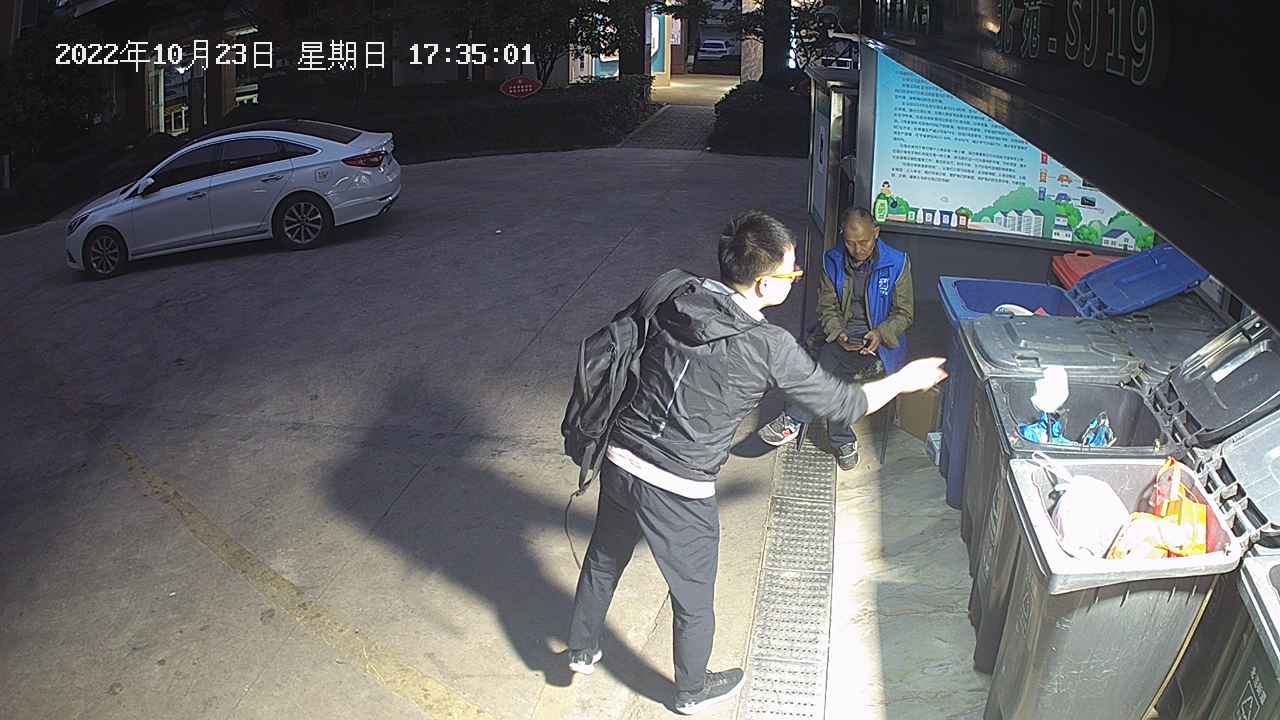person: (557, 206, 950, 719)
worker: (756, 205, 917, 473)
